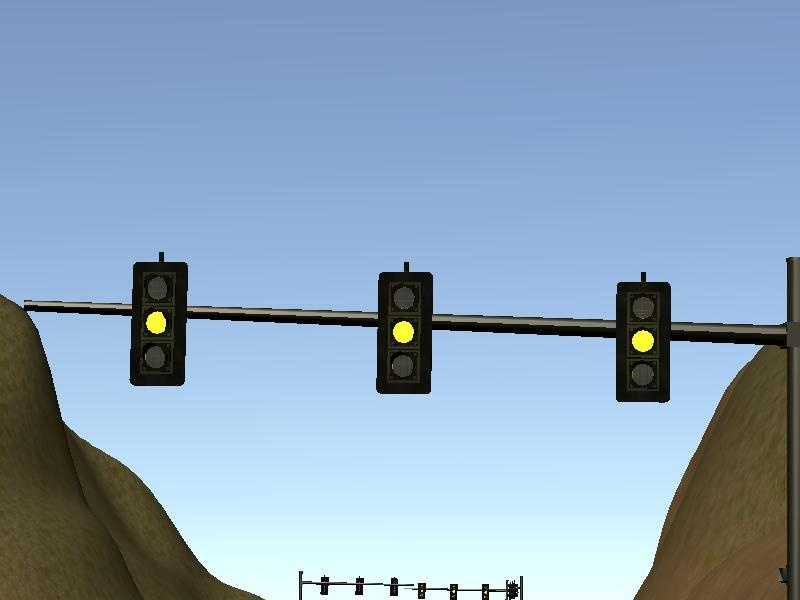YELLOW: (128, 250, 187, 385), (373, 262, 432, 397), (613, 270, 672, 405)
